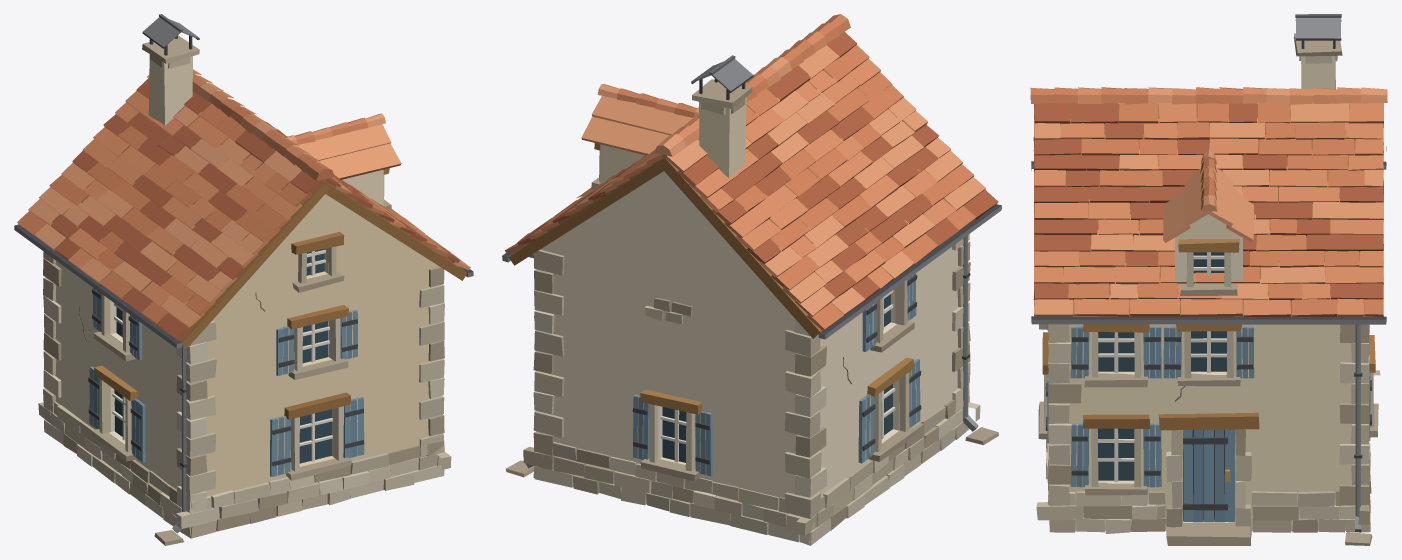
File: marthe.glb
3 renders of one model, left to right at view 1: azimuth 30°, elevation 25°; view 2: azimuth 150°, elevation 25°; view 3: azimuth 270°, elevation 25°, orthographic. The views are drawn at different scales.
Visible parts, largest first — view 1: marthe; view 2: marthe; view 3: marthe.
Part boxes in pixels (<box>): marthe: <box>14,14,473,545</box>; marthe: <box>502,14,1001,545</box>; marthe: <box>1030,14,1387,545</box>.
Size of the model in its own units: 7.4 by 9.28 by 6.84.
